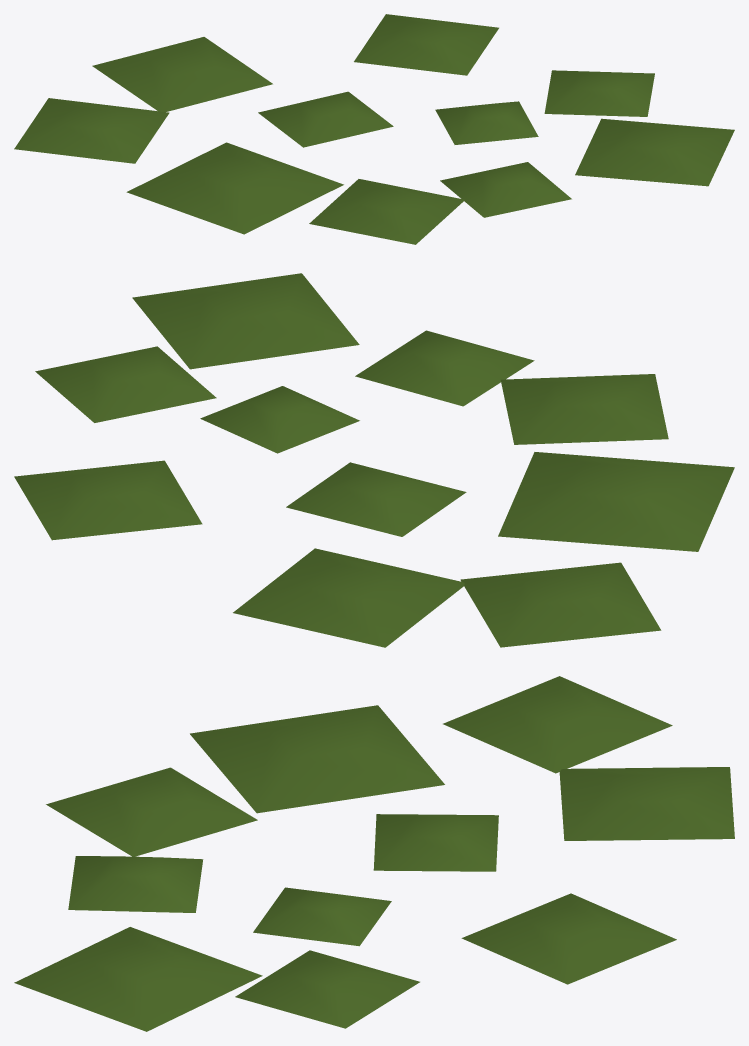
Rendered from Lily Multi 2.glb.
The picture shows the model from 3 angles, top to bottom: view 1: azimuth 30°, elevation 25°; view 2: azimuth 150°, elevation 25°; view 3: azimuth 270°, elevation 25°; orthographic projection. The views are drawn at different scales.
Visible parts, largest first — view 1: Lily Multi 2; view 2: Lily Multi 2; view 3: Lily Multi 2.
Part boxes in pixels (x1,y1,x2,y2): Lily Multi 2: (14,14,734,244); Lily Multi 2: (14,273,734,647); Lily Multi 2: (14,676,734,1031).
Size of the model in its own units: 0.5623 by 0.0152 by 0.4831.
